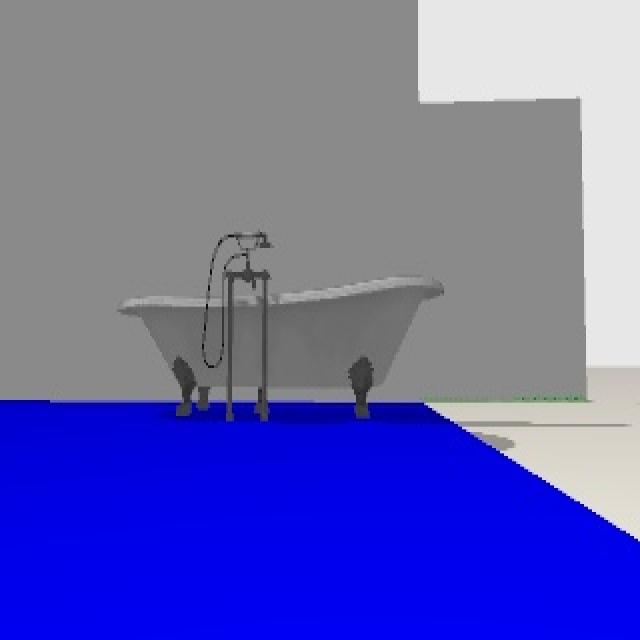bathtub: (118, 232, 446, 421)
